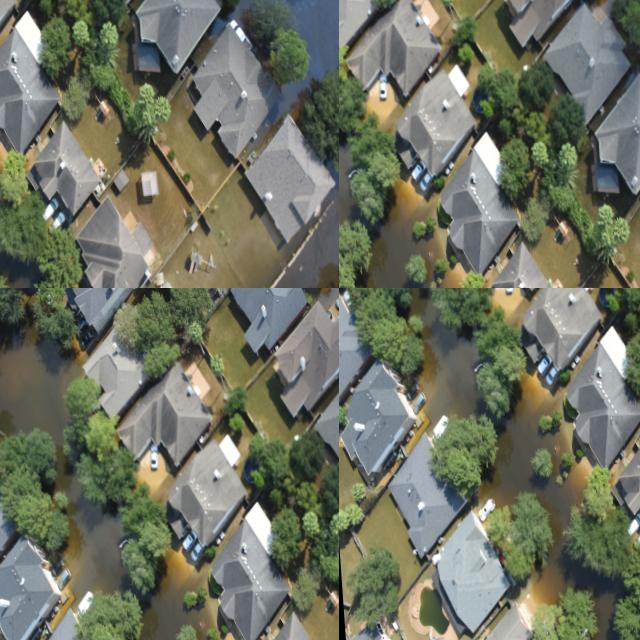fire: (478, 373, 591, 604), (407, 288, 480, 427)
